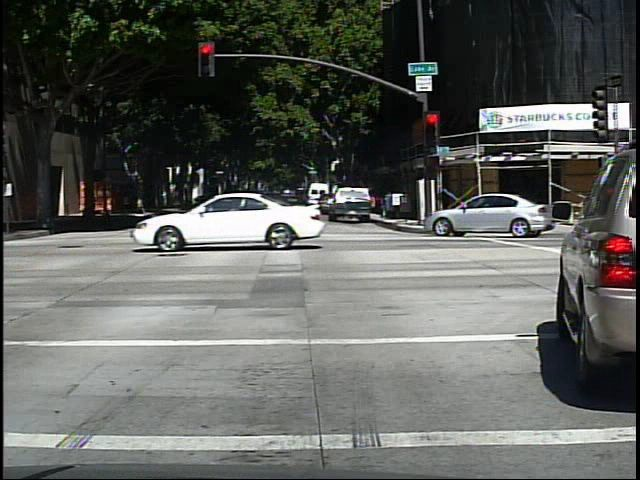person: (85, 186, 101, 220)
